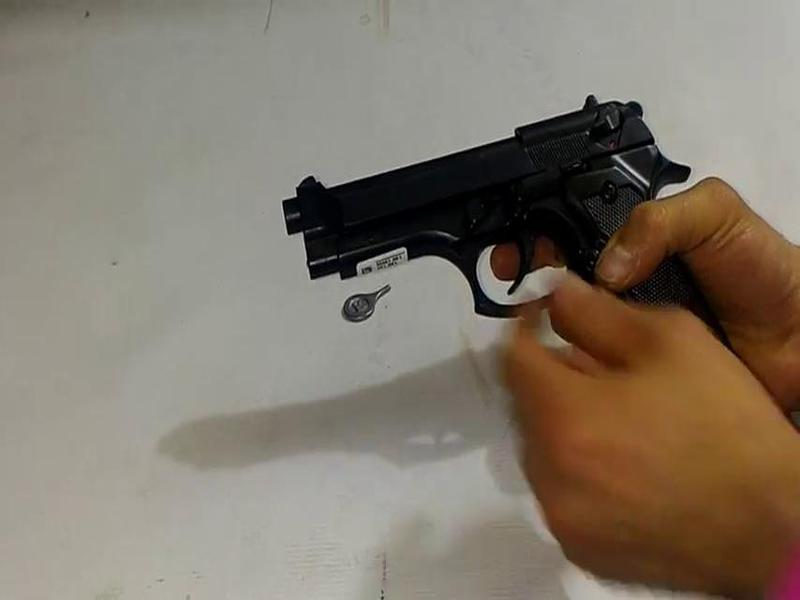Pistola: (258, 92, 724, 345)
